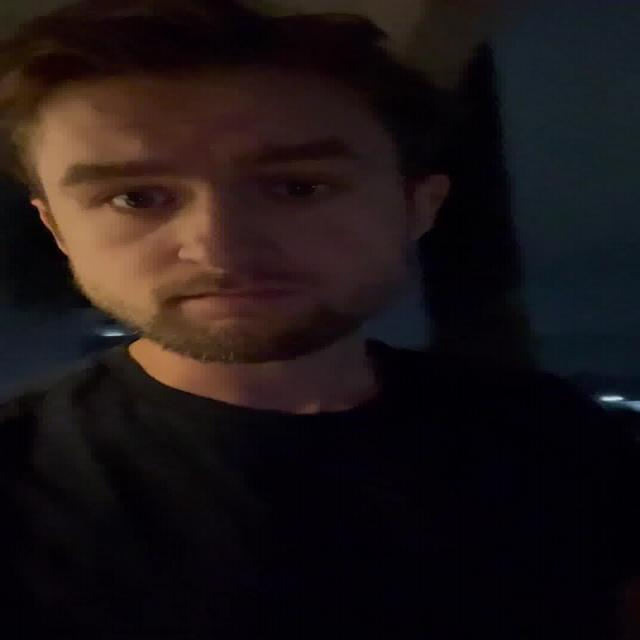earlobe: (405, 172, 450, 241), (34, 199, 69, 259)
